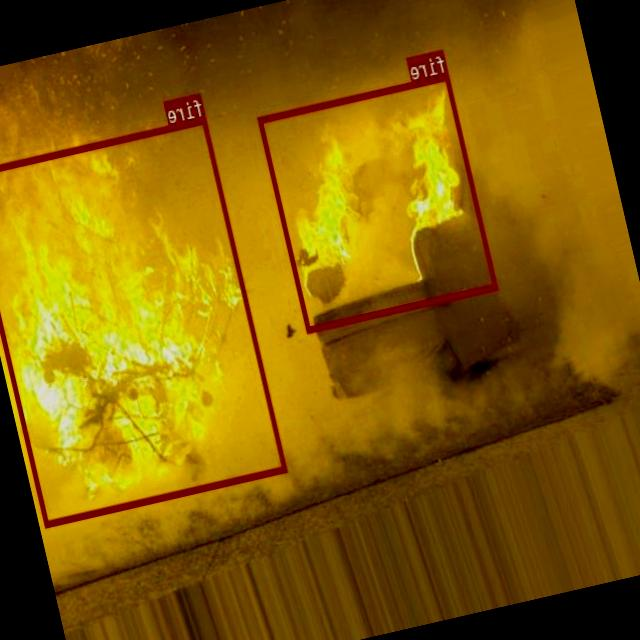fire: (0, 116, 287, 525), (257, 71, 498, 332)
